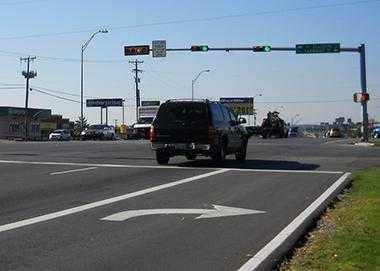green: (253, 45, 271, 53), (191, 46, 209, 54)
